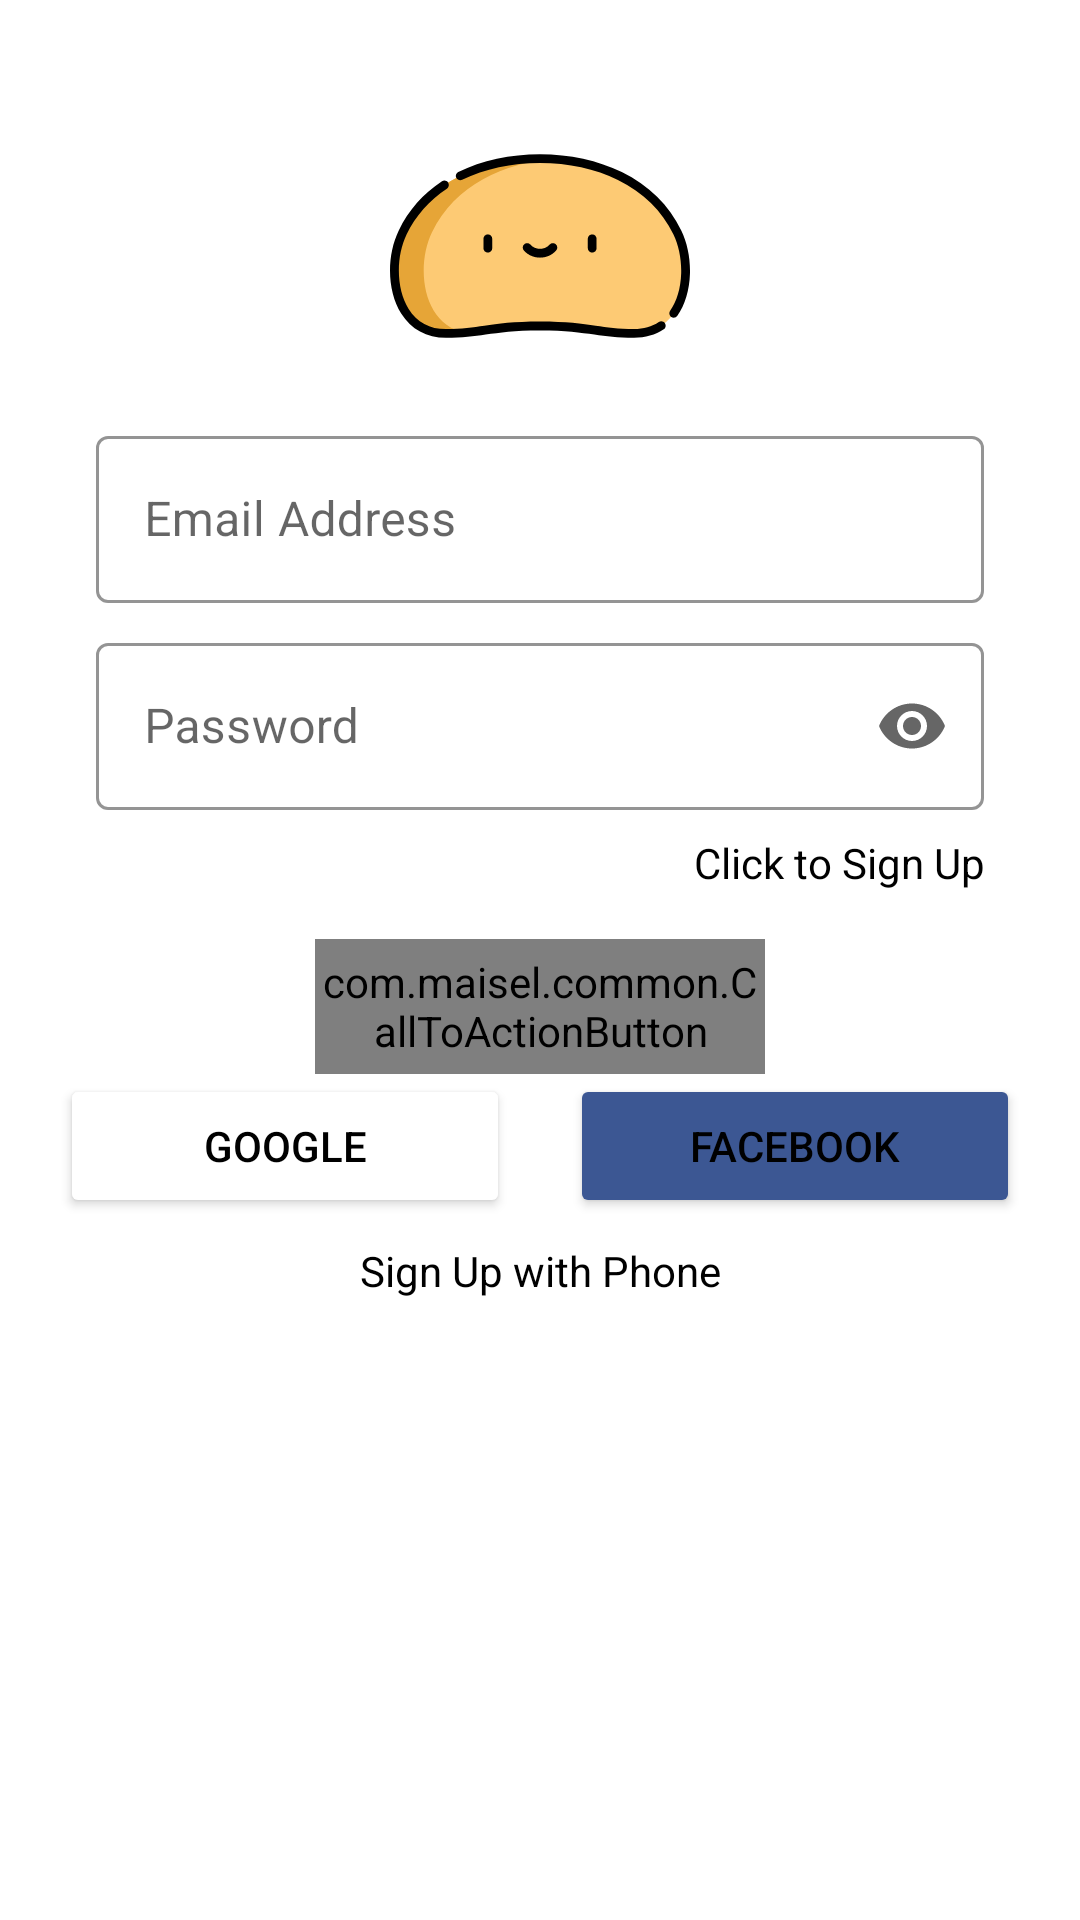

Icon bounding boxes for this 1080w x 1920h phone screenshot, format (x1, y1, x2, y2):
dough: (390, 154, 690, 338)
